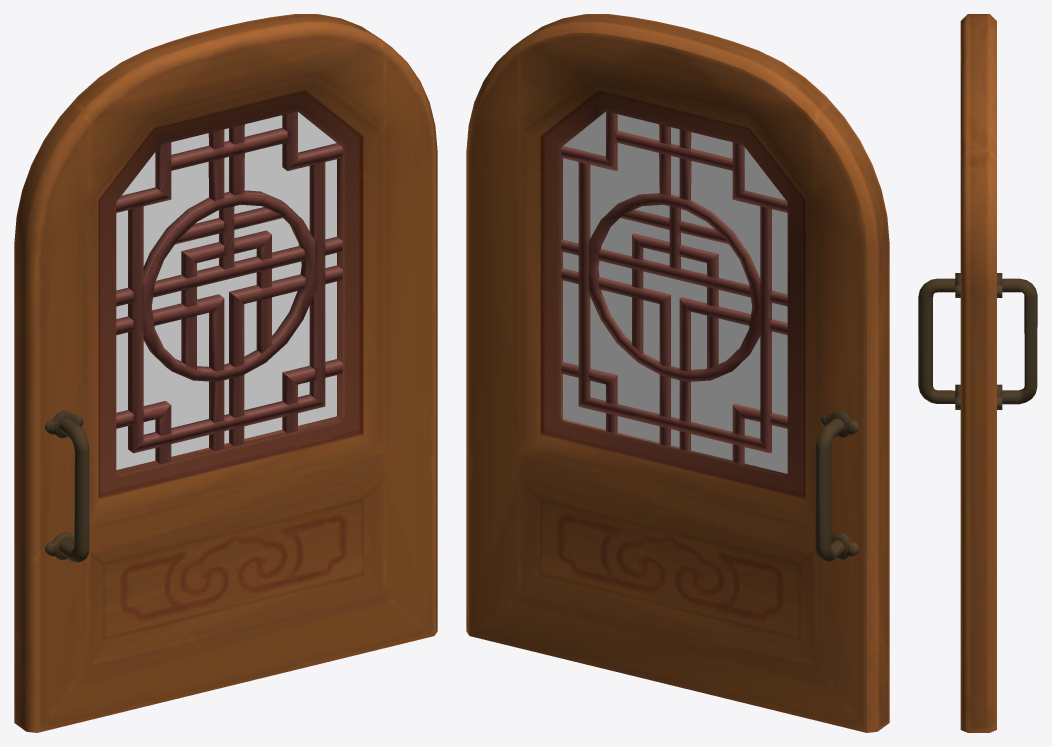
File: door_chinese_ar.glb
3 views of the same model, side by side, from view 1: azimuth 30°, elevation 25°; view 2: azimuth 150°, elevation 25°; view 3: azimuth 270°, elevation 25° (orthographic). The views are drawn at different scales.
Parts seen in each view (by area): view 1: BodyR1__mDoorR, GlassR__mWindowGlass; view 2: BodyR1__mDoorR, GlassR__mWindowGlass; view 3: BodyR1__mDoorR.
Part boxes in pixels (x1,y1,x2,y2): BodyR1__mDoorR: [14, 14, 437, 732]; GlassR__mWindowGlass: [116, 112, 336, 469]; BodyR1__mDoorR: [466, 14, 889, 732]; GlassR__mWindowGlass: [563, 112, 787, 473]; BodyR1__mDoorR: [918, 14, 1037, 732].
Bounding box in the file's own units: 12 × 18 × 3.29.
Materials: 2 (1 with a texture image).
